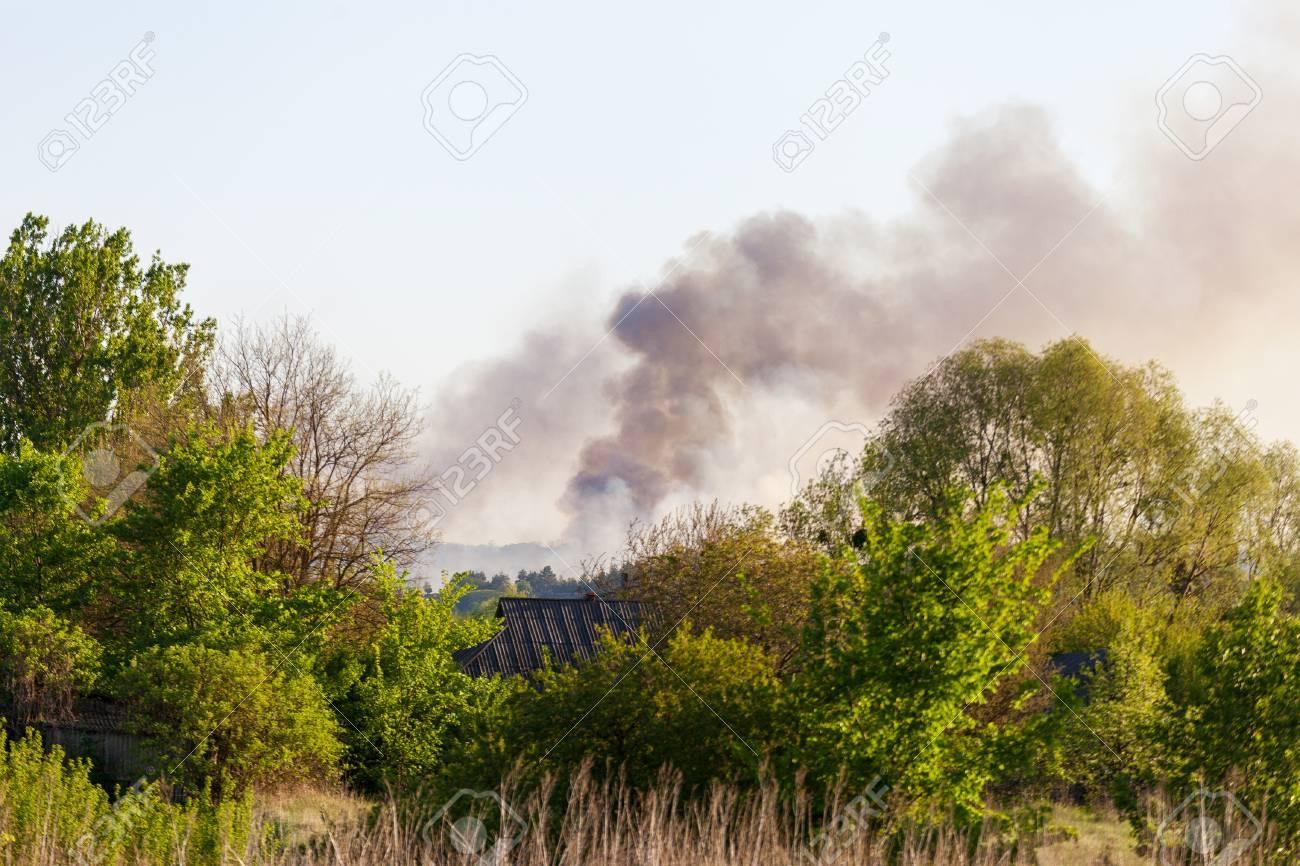smoke: (537, 156, 1287, 566), (386, 317, 604, 554)
